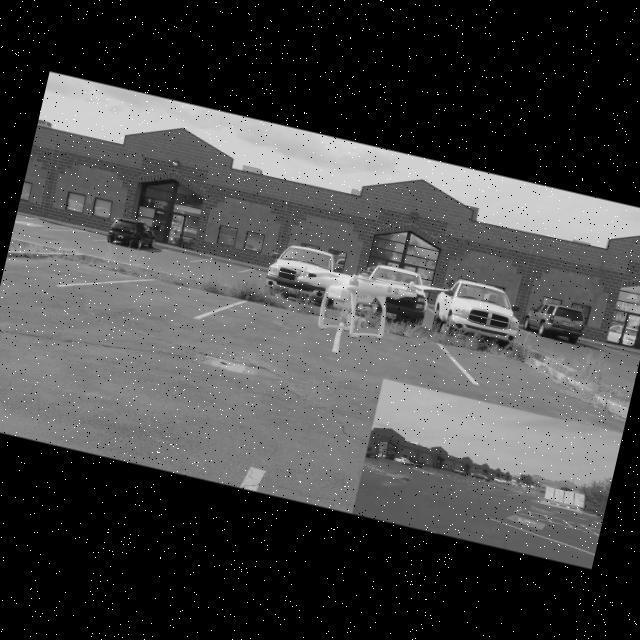Drons: (267, 248, 448, 356)
